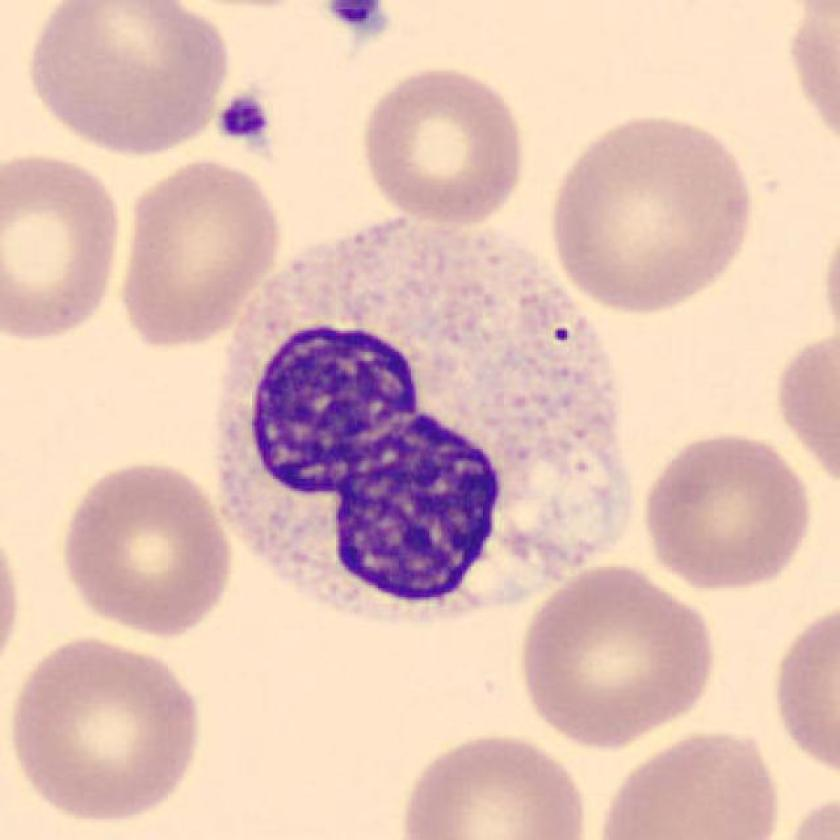neutrophil: (215, 224, 636, 617)
